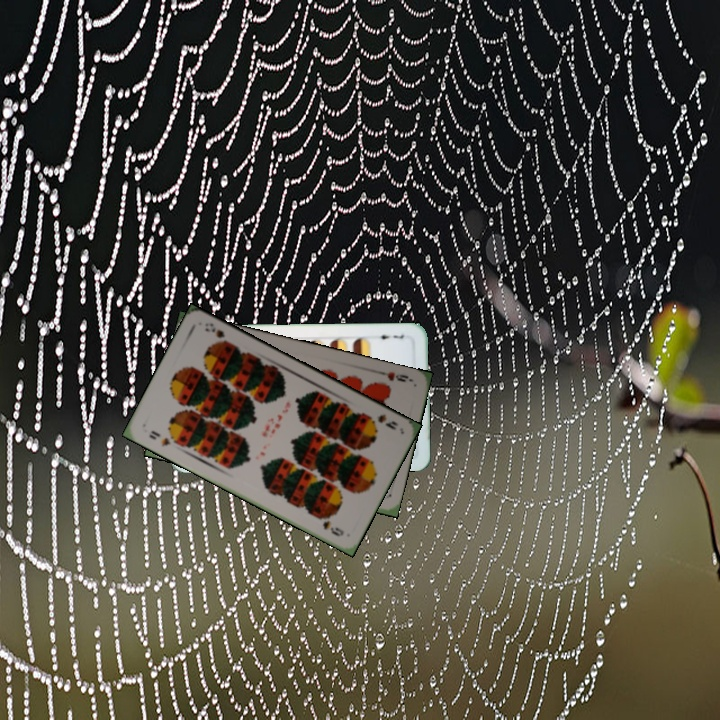E7: (372, 330, 407, 342)
H9: (374, 367, 414, 384)
S9: (363, 410, 400, 432), (145, 426, 173, 449)
